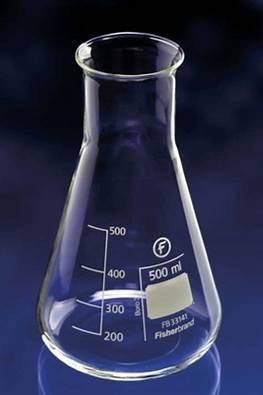Titrarion: (34, 26, 224, 372)
